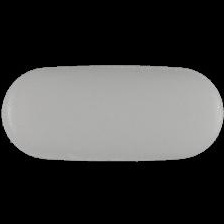66582-313: (0, 0, 224, 224)
